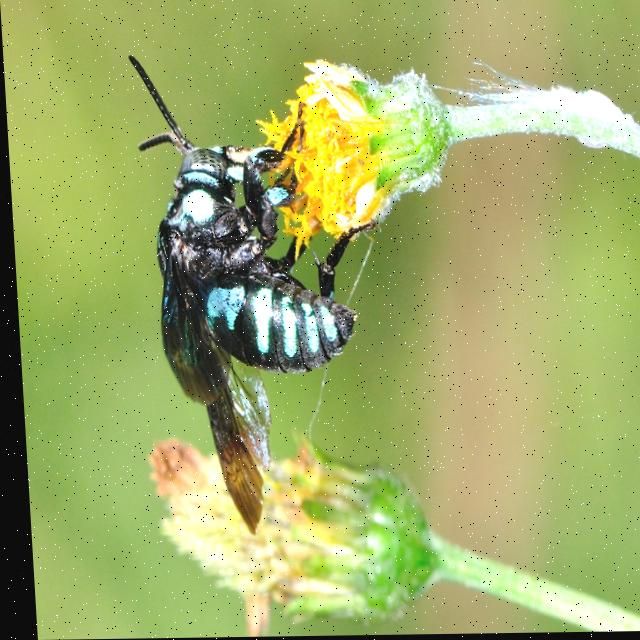Thyreus: (116, 34, 389, 541)
